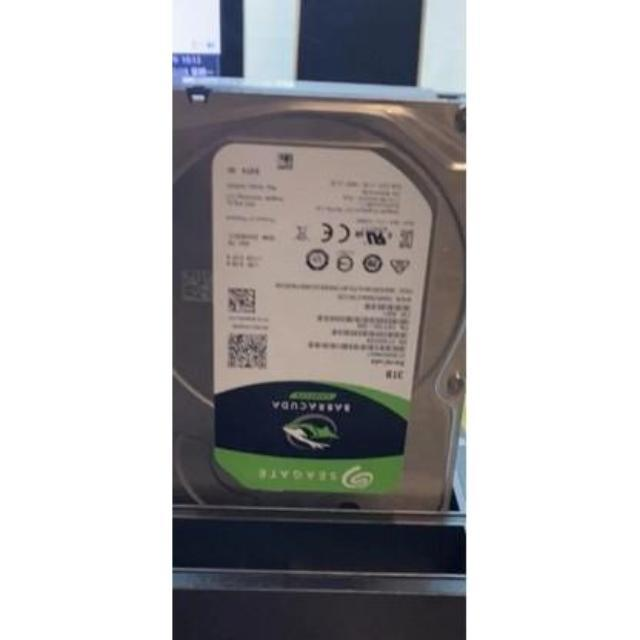DISK: (168, 64, 470, 532)
